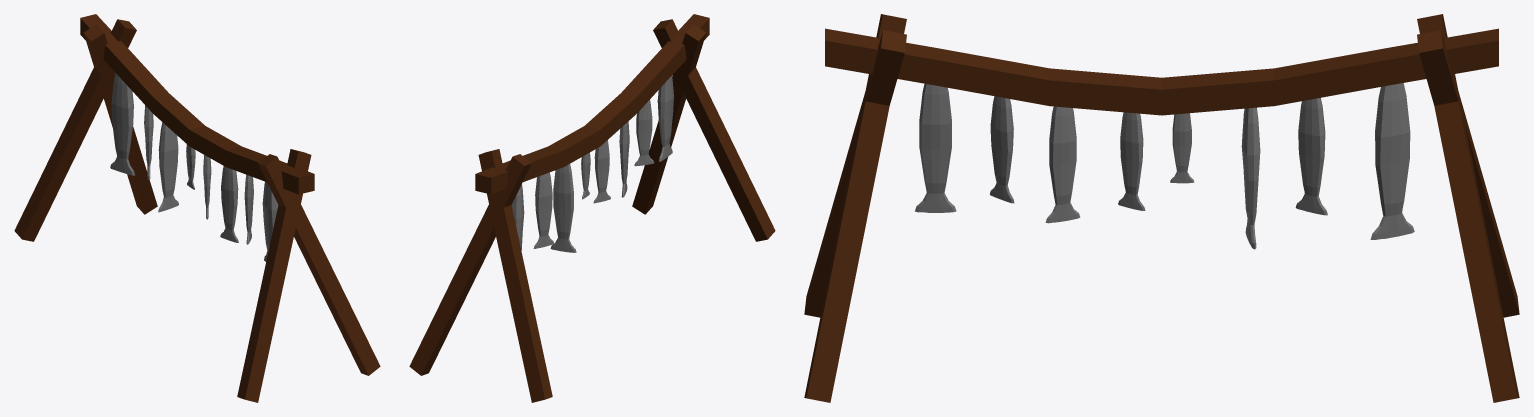
File: FishDryingRack.fbx
The picture shows the model from 3 angles, left to right: view 1: azimuth 30°, elevation 25°; view 2: azimuth 150°, elevation 25°; view 3: azimuth 270°, elevation 25°; orthographic projection. The views are drawn at different scales.
Parts seen in each view (by area): view 1: Cube; view 2: Cube; view 3: Cube.
Part boxes in pixels (x1,y1,x2,y2): Cube: (14, 14, 380, 402); Cube: (409, 14, 775, 402); Cube: (804, 14, 1519, 402).
Size of the model in its own units: 162 by 251 by 480.
